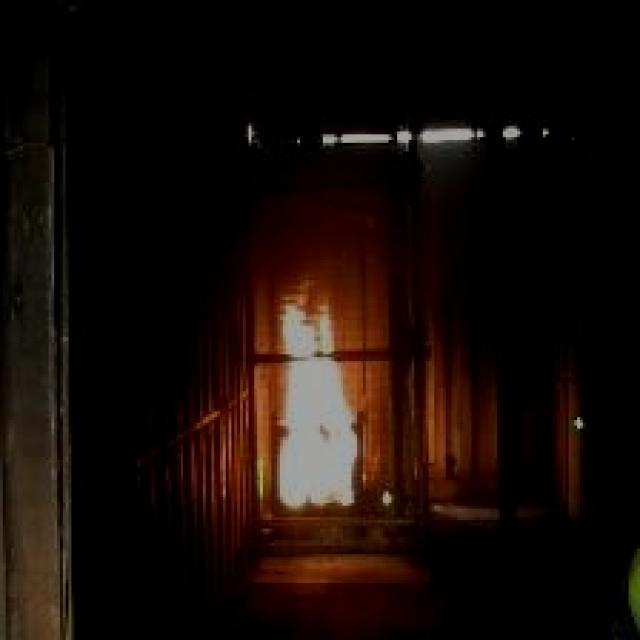fire: (259, 287, 364, 496)
